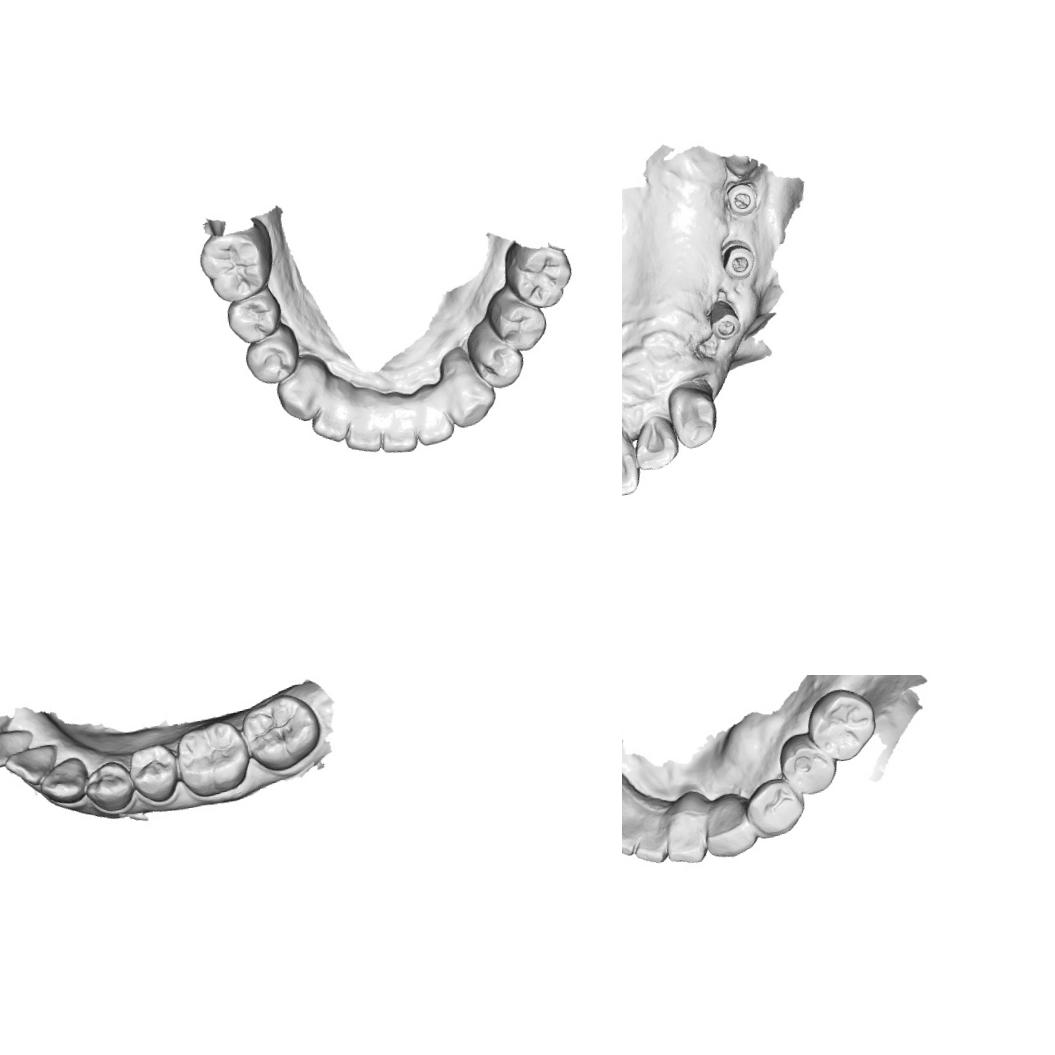canine: (436, 340, 500, 430), (272, 351, 334, 424), (700, 790, 759, 860), (664, 382, 721, 452), (36, 754, 93, 812)
implant: (718, 239, 760, 283), (705, 296, 744, 343), (723, 179, 759, 218)
incisor: (304, 370, 357, 446), (337, 380, 384, 455), (630, 411, 683, 474), (373, 389, 420, 455), (410, 383, 456, 448), (2, 742, 62, 790), (662, 814, 710, 866), (622, 419, 644, 502), (630, 826, 670, 868), (0, 726, 38, 769), (622, 818, 640, 859)
molar: (194, 213, 279, 306), (238, 690, 325, 776), (172, 718, 253, 800), (802, 684, 882, 766), (500, 230, 576, 314)
premolar: (482, 279, 550, 356), (462, 313, 528, 392), (776, 729, 842, 800), (740, 774, 808, 840), (239, 321, 303, 388), (222, 288, 285, 347), (126, 741, 182, 806), (81, 757, 139, 817)
